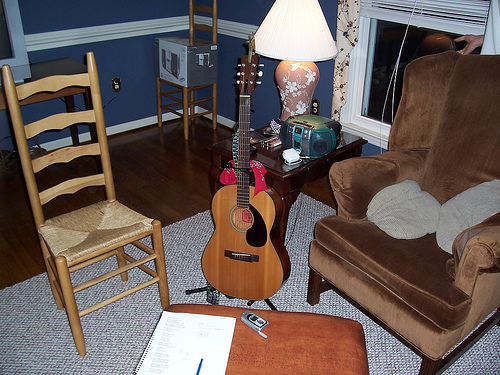guitar: (197, 51, 292, 301)
